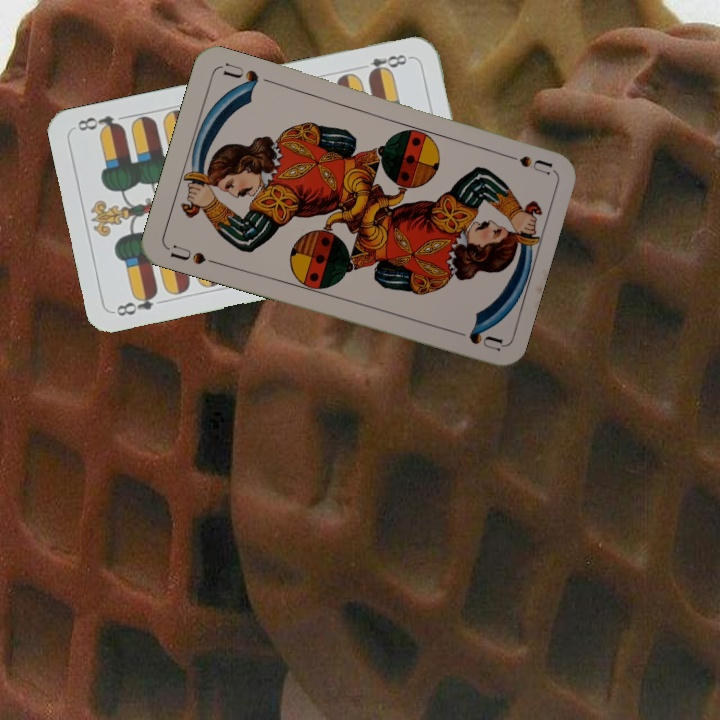E8: (355, 50, 414, 79), (112, 287, 161, 319)
SU: (495, 148, 554, 178), (164, 240, 222, 268)
